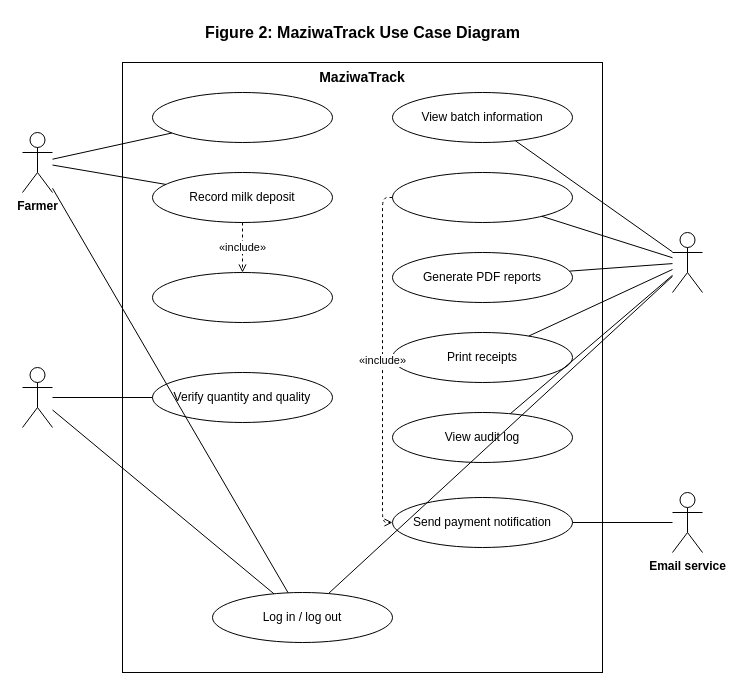
This 743x690 diagram has some shape labels left out. The shapes that lost their labels are listed below. From the top down, each one's box as (x1, y1, x2, y2) in pixels, then its label:
(152, 92, 332, 142): Register
(392, 172, 572, 222): Approve payment
(672, 232, 702, 292): Admin
(152, 272, 332, 322): Issue batch number
(22, 366, 52, 428): Grader
